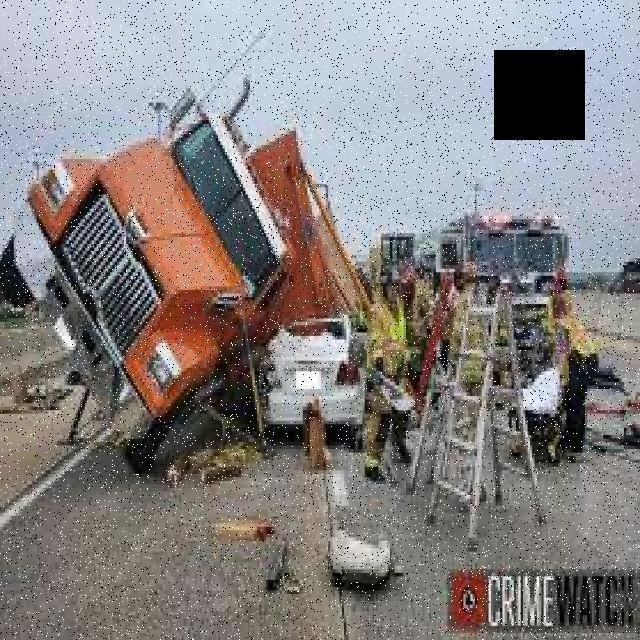multiple_accident: (26, 57, 640, 466)
